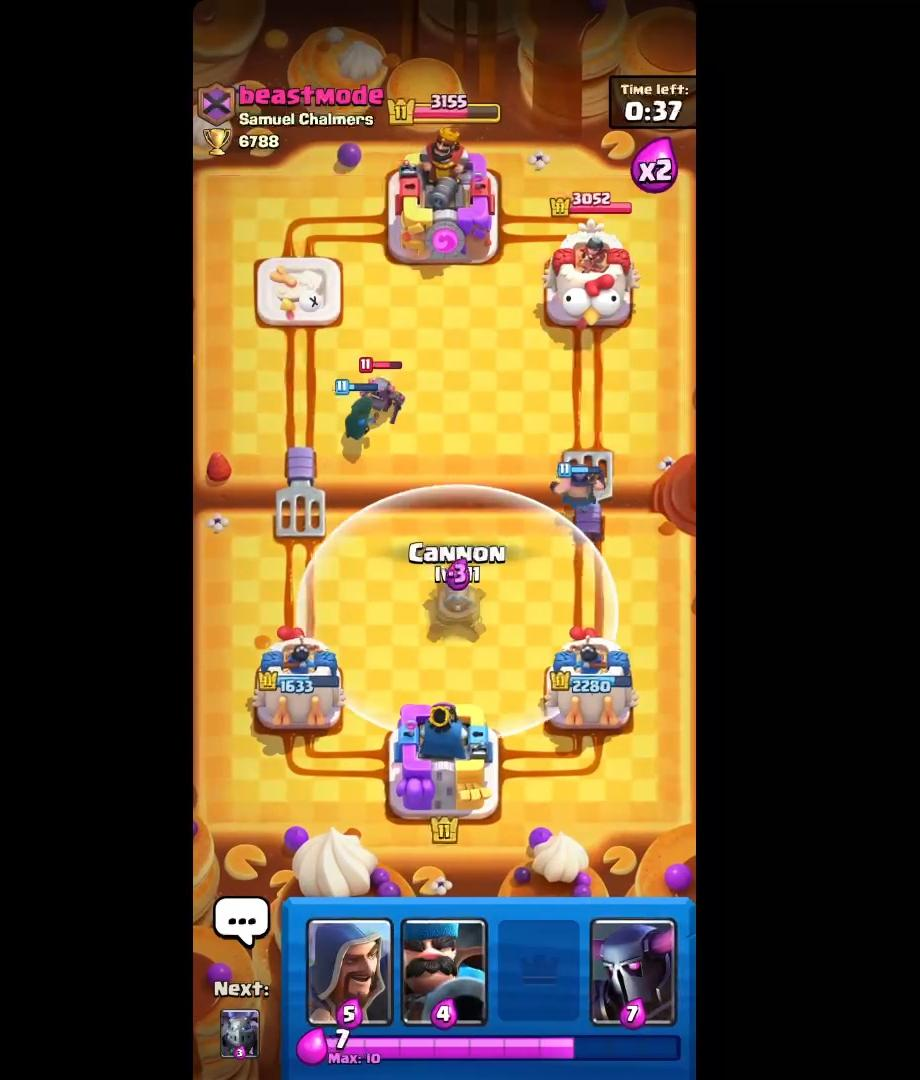Mini Pekka: (357, 355, 410, 419)
